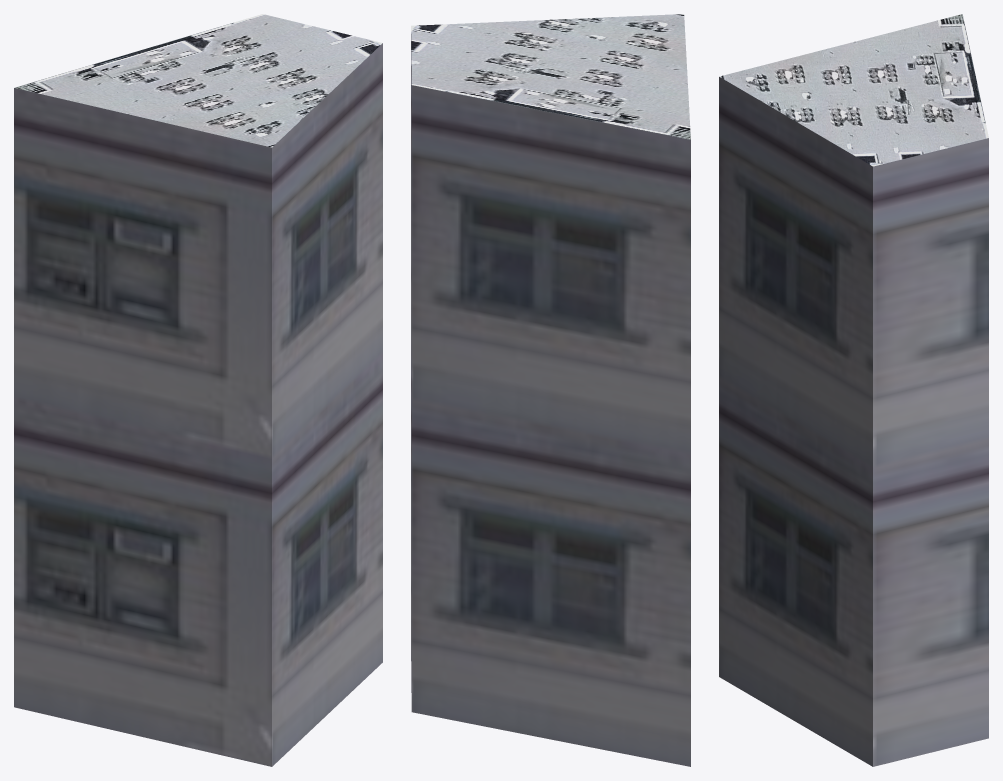
The model's file is ResTex__3497.fbx.
3 views of the same model, side by side, from view 1: azimuth 30°, elevation 25°; view 2: azimuth 150°, elevation 25°; view 3: azimuth 270°, elevation 25° (orthographic). The views are drawn at different scales.
Parts seen in each view (by area): view 1: CityEngineMaterial_1_m, CityEngineMaterial_8_m; view 2: CityEngineMaterial_1_m, CityEngineMaterial_8_m; view 3: CityEngineMaterial_1_m, CityEngineMaterial_8_m.
Boxes of the visible parts, left/top/right/bottom form: CityEngineMaterial_1_m: left=14, top=43, right=382, bottom=766; CityEngineMaterial_8_m: left=14, top=14, right=382, bottom=147; CityEngineMaterial_1_m: left=411, top=34, right=690, bottom=766; CityEngineMaterial_8_m: left=411, top=14, right=690, bottom=139; CityEngineMaterial_1_m: left=719, top=77, right=988, bottom=766; CityEngineMaterial_8_m: left=719, top=14, right=988, bottom=166.
Bounding box in the file's own units: 3.27 × 6 × 2.44.
Materials: 2 (2 with a texture image).
